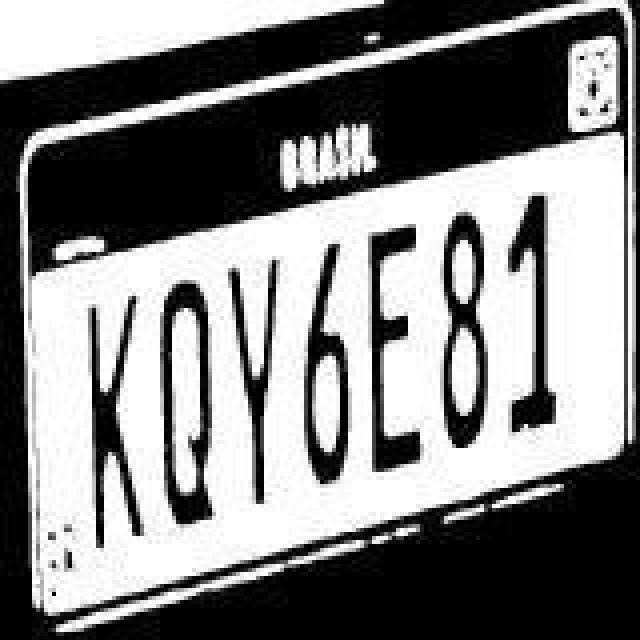1: (502, 190, 586, 482)
6: (290, 224, 358, 512)
8: (436, 194, 500, 486)
E: (350, 210, 434, 494)
K: (82, 278, 158, 554)
Q: (142, 256, 226, 536)
Y: (212, 228, 292, 516)
